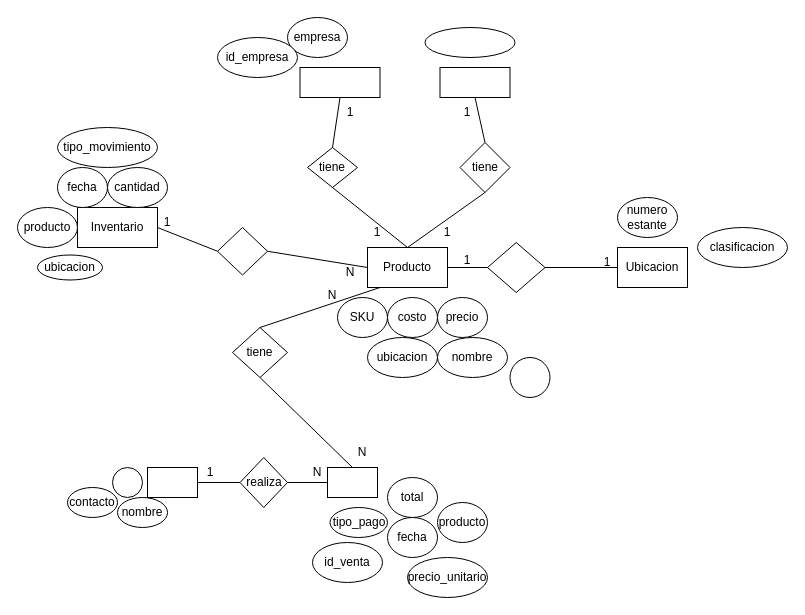
This 805x615 diagram has some shape labels left out. Each missing label, with the centre of its shape:
Categoria: the point at 474,82
Clientes: the point at 172,482
Fabricantes: the point at 339,82
pertenece: the point at 515,267
revisa: the point at 242,250
rut: the point at 127,482
stock: the point at 529,377
tipo_producto: the point at 469,42
Venta: the point at 352,482
